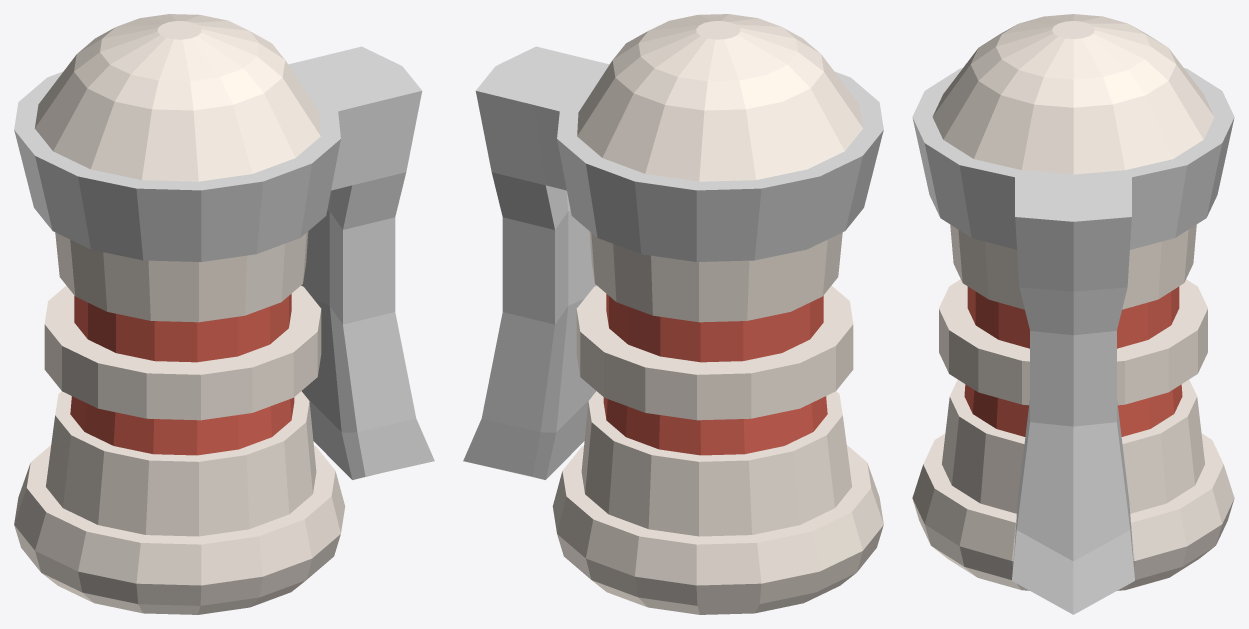
The model's file is future-grenade.fbx.
3 views of the same model, side by side, from view 1: azimuth 30°, elevation 25°; view 2: azimuth 150°, elevation 25°; view 3: azimuth 270°, elevation 25° (orthographic). The views are drawn at different scales.
Parts seen in each view (by area): view 1: Cylinder; view 2: Cylinder; view 3: Cylinder.
Boxes of the visible parts, x1,y1,x2,y2 form: Cylinder: (14, 14, 434, 614); Cylinder: (463, 14, 883, 614); Cylinder: (912, 14, 1234, 614).
Size of the model in its own units: 184 by 247 by 141.
